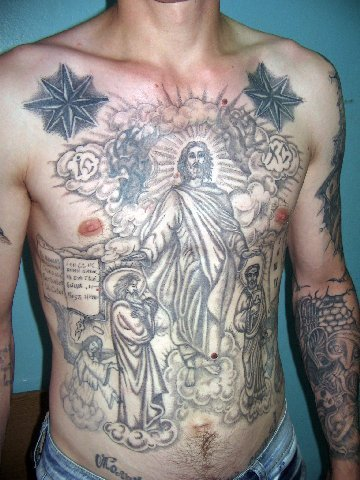tatu3_bukva: (33, 230, 100, 319)
tatu4_zvezda: (18, 58, 111, 142), (236, 54, 306, 137)
